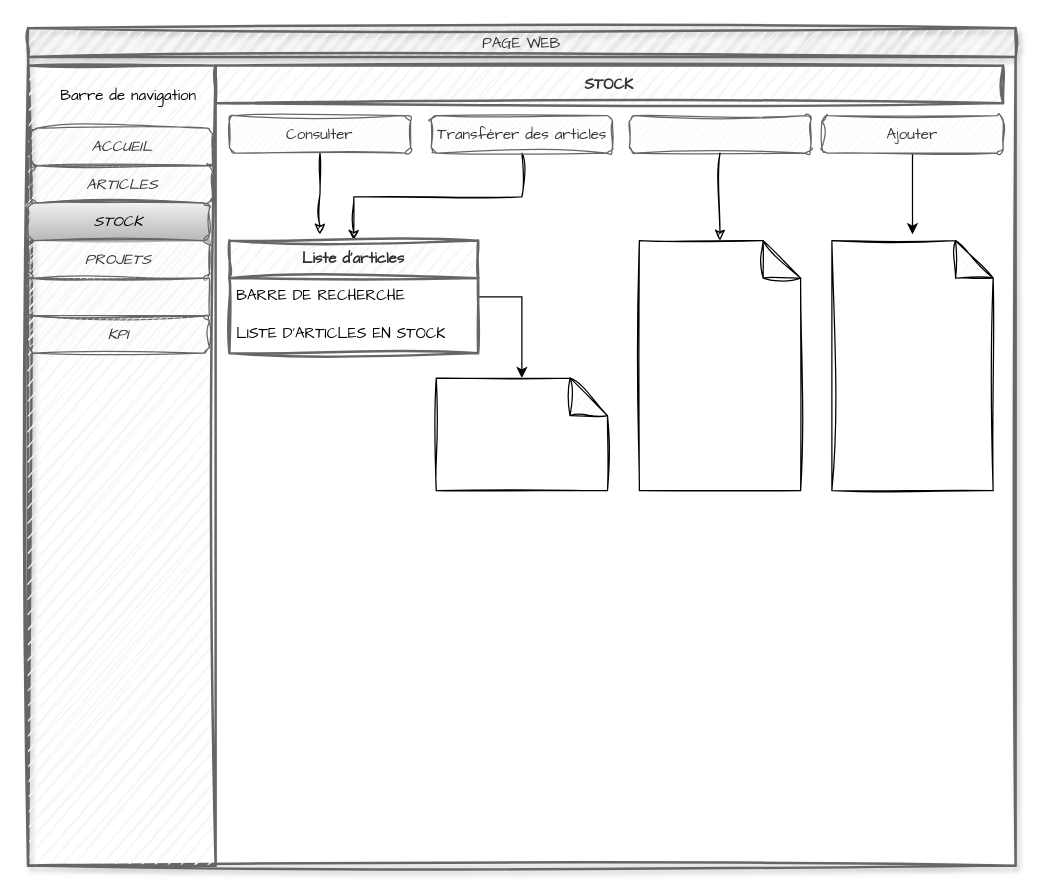
Some shapes in this 1045 by 896 pixel diagram are drawn without their labels. The shapes that lost their labels are listed below. From the top down, each one's centre as x and y in pixels, then its label:
At (719,133): "Inventaire".
At (118,296): "DMC".
At (719,365): "Réaliser un inventaire".
At (912,365): "Formulaire d'ajout d'article : sélection depuis les articles".
At (521,434): "Formulaire de transfert d'article".
